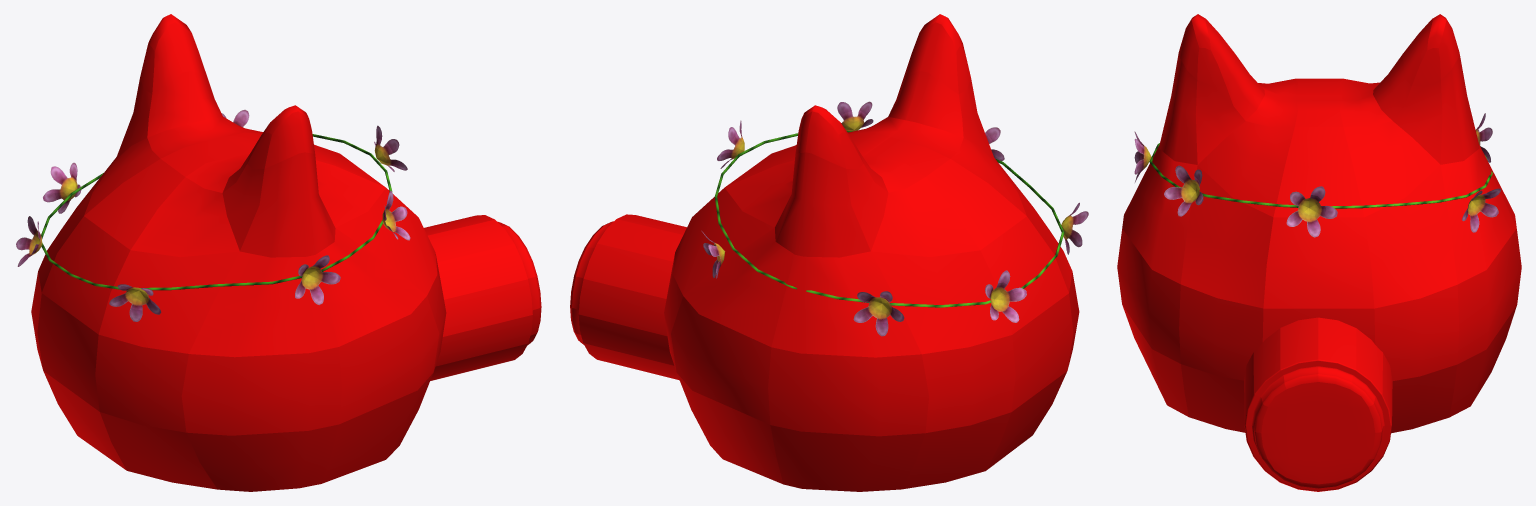
Rendered from Maison_Renard.fbx.
3 views of the same model, side by side, from view 1: azimuth 30°, elevation 25°; view 2: azimuth 150°, elevation 25°; view 3: azimuth 270°, elevation 25° (orthographic). The views are drawn at different scales.
Parts seen in each view (by area): view 1: Sphere023; view 2: Sphere023; view 3: Sphere023.
Part boxes in pixels (left/top/right/bottom): Sphere023: left=16, top=14, right=541, bottom=491; Sphere023: left=570, top=14, right=1088, bottom=491; Sphere023: left=1117, top=14, right=1521, bottom=491.
Bounding box in the file's own units: 262 × 198 × 206.
